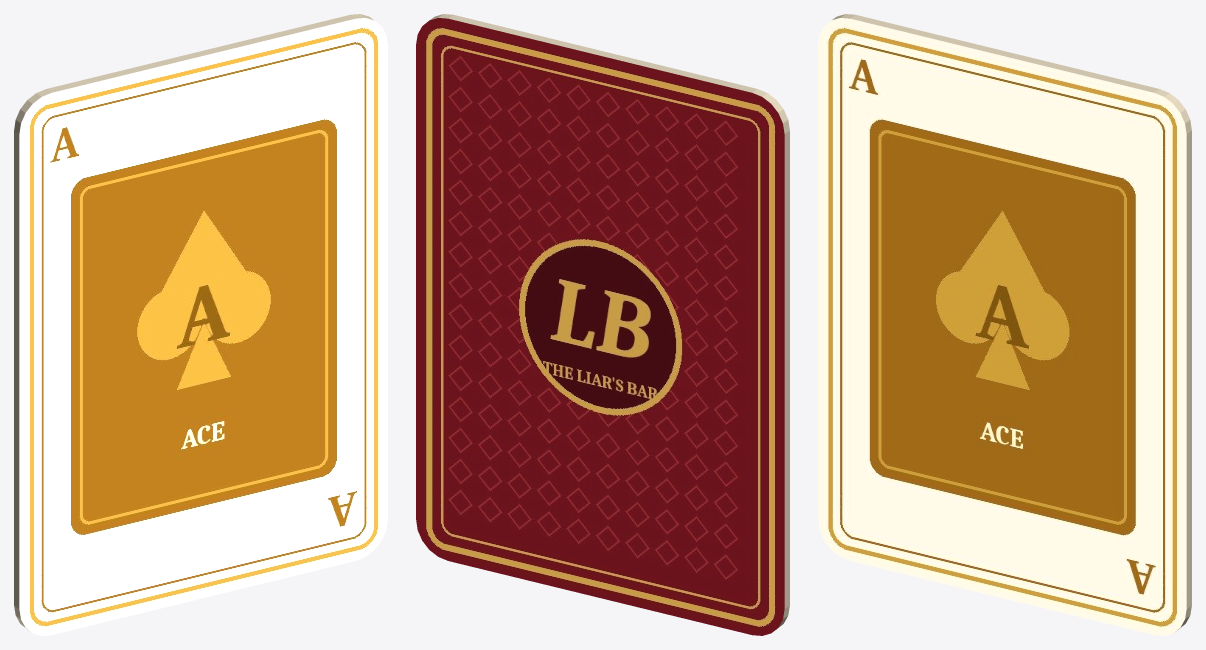
Rendered from lb4_card_a.glb.
3 renders of one model, left to right at view 1: azimuth 30°, elevation 25°; view 2: azimuth 150°, elevation 25°; view 3: azimuth 330°, elevation 25°, orthographic.
Visible parts, largest first — view 1: lb4_card_a; view 2: lb4_card_a; view 3: lb4_card_a.
Boxes of the visible parts, x1,y1,x2,y2 form: lb4_card_a: (14,14,387,635); lb4_card_a: (416,14,789,635); lb4_card_a: (818,14,1191,635).
Bounding box in the file's own units: 0.32 × 0.45 × 0.008.
Materials: 3 (2 with a texture image).
